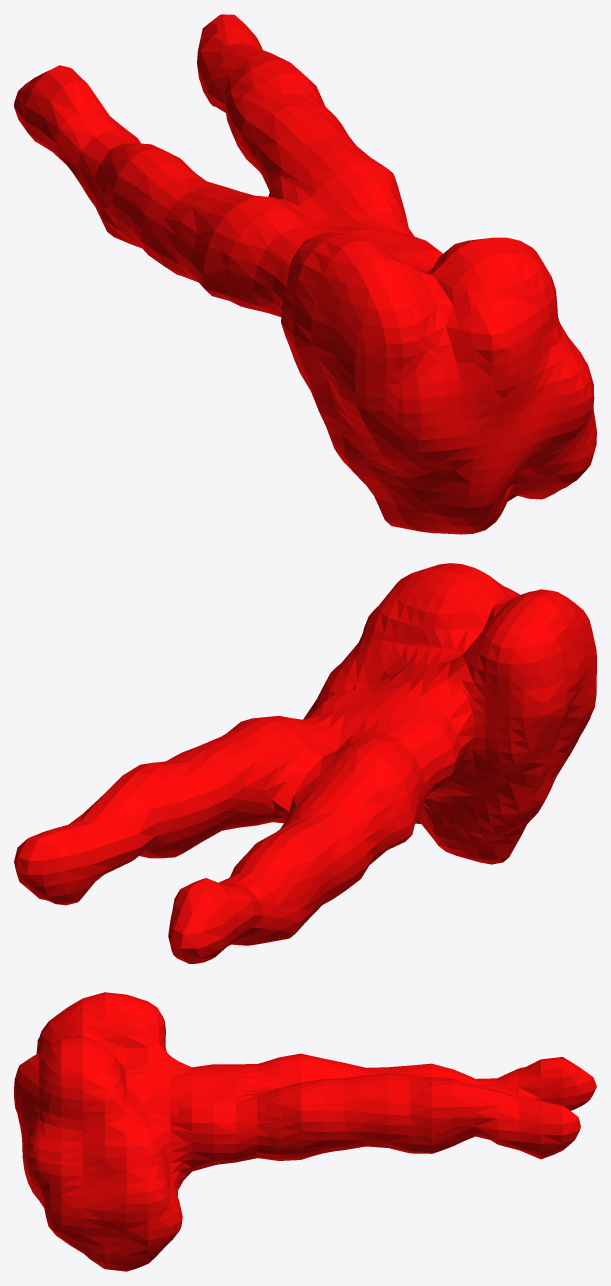
Rendered from zapA_coarse.dae.
3 renders of one model, top to bottom at view 1: azimuth 30°, elevation 25°; view 2: azimuth 150°, elevation 25°; view 3: azimuth 270°, elevation 25°, orthographic. The views are drawn at different scales.
Visible parts, largest first — view 1: zapA; view 2: zapA; view 3: zapA.
Part boxes in pixels (x1,y1,x2,y2): zapA: (14, 14, 596, 534); zapA: (14, 563, 596, 963); zapA: (14, 992, 596, 1271).
Bounding box in the file's own units: 41.13 × 43.71 × 108.
